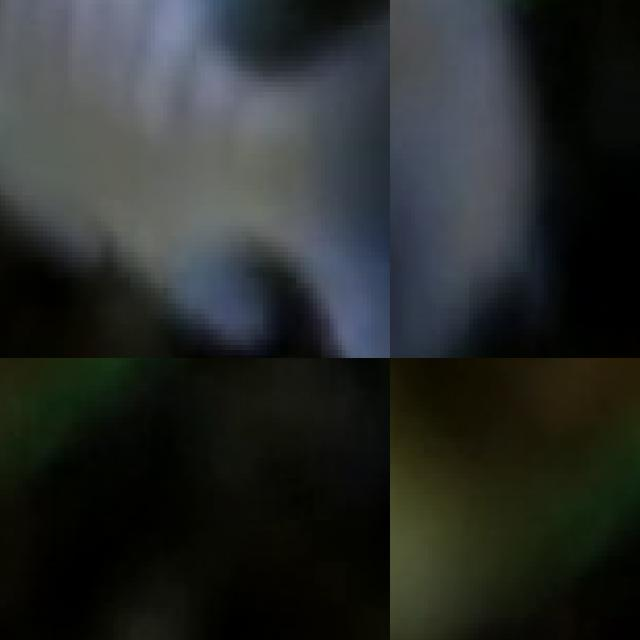fish: (0, 0, 390, 358), (390, 0, 585, 358)
